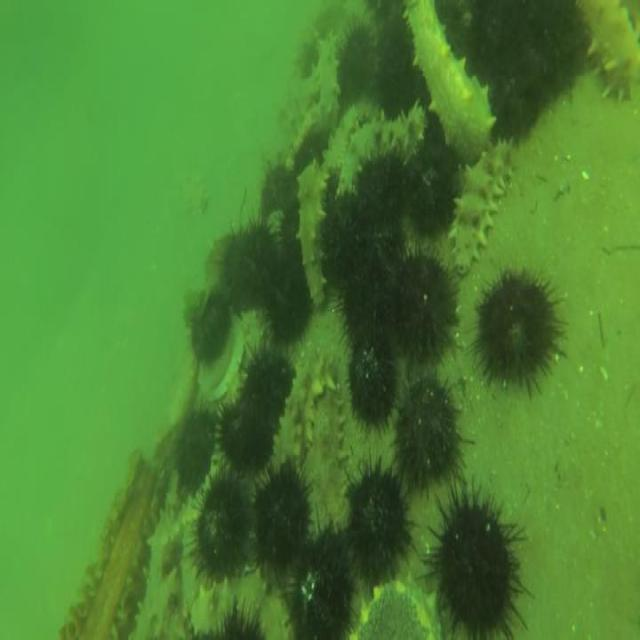echinus: (429, 487, 518, 638), (474, 266, 564, 394), (388, 246, 460, 372), (393, 370, 463, 494), (344, 462, 409, 586), (287, 523, 353, 640), (250, 460, 314, 569), (194, 474, 252, 582), (318, 190, 372, 294), (406, 136, 460, 240), (347, 331, 399, 432), (484, 65, 542, 152), (221, 221, 271, 316), (356, 147, 410, 231), (217, 398, 272, 477), (339, 270, 390, 354), (266, 254, 312, 346), (371, 33, 417, 120), (187, 286, 233, 370), (174, 408, 215, 499), (242, 354, 295, 420), (258, 158, 300, 240), (338, 19, 376, 103)
holothurian: (401, 0, 498, 161), (450, 133, 516, 280), (334, 103, 428, 204), (303, 351, 351, 534), (189, 565, 298, 640), (127, 493, 181, 640), (267, 349, 327, 479), (578, 0, 640, 107), (292, 158, 332, 311), (318, 98, 387, 183), (178, 493, 207, 613), (317, 24, 343, 138)
scallop: (198, 320, 246, 408)
